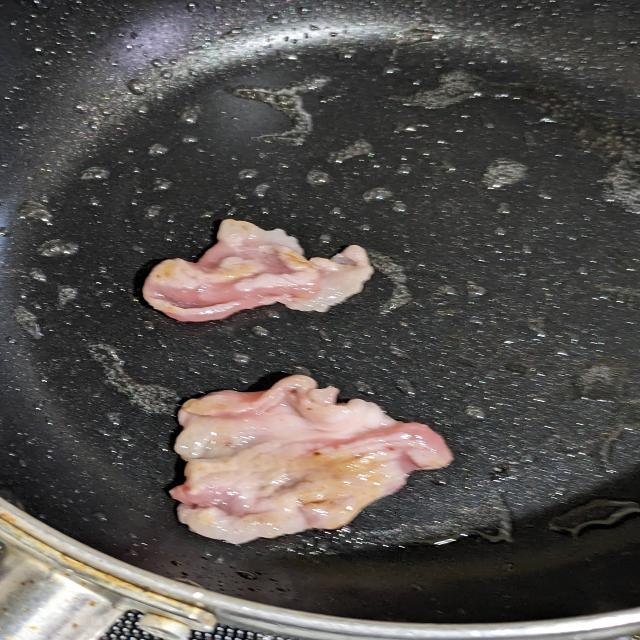NG undercooked pork,: (166, 369, 476, 553), (142, 213, 382, 323)
